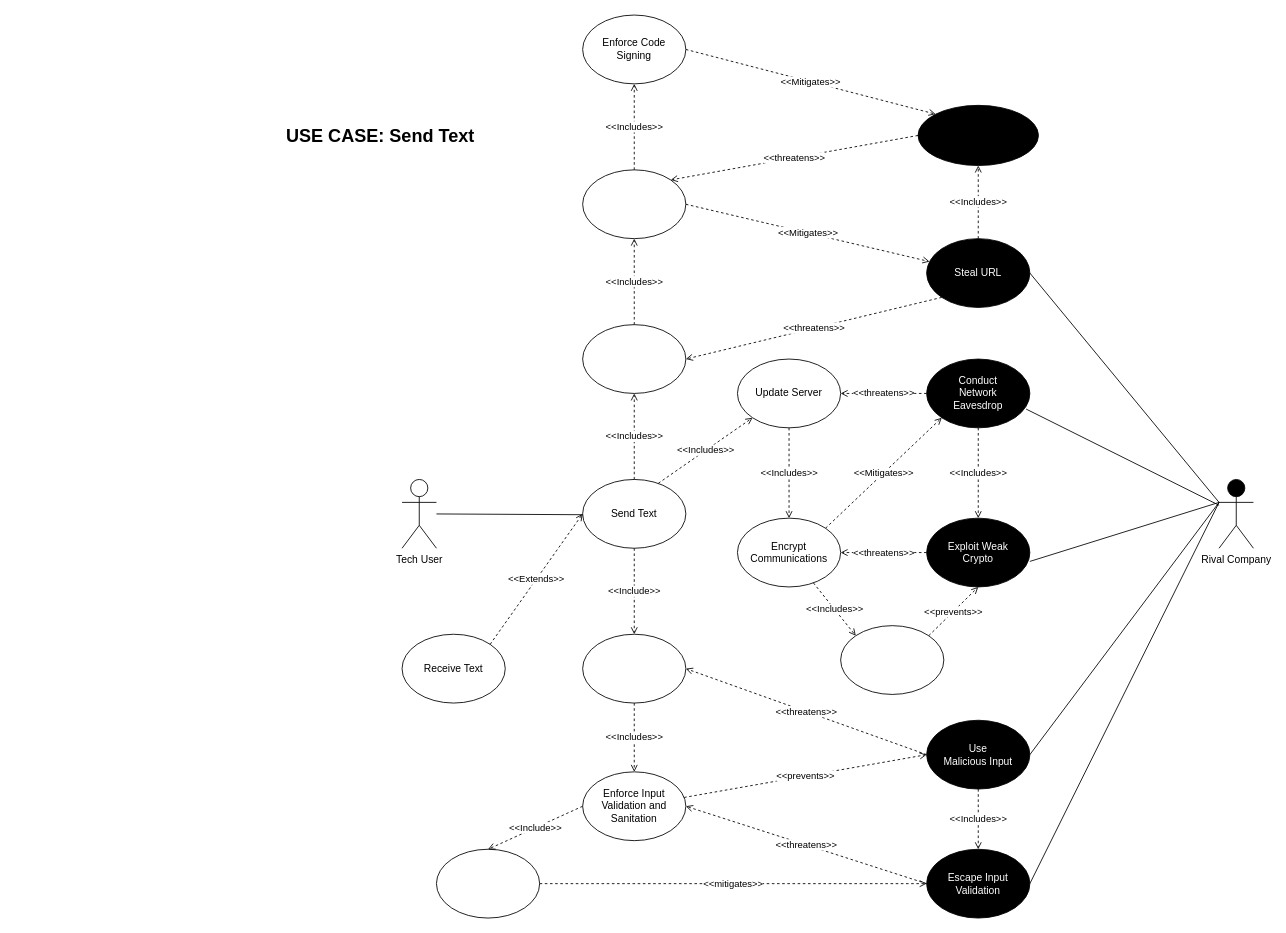
Some shapes in this 1286 by 933 pixel diagram are drawn without their labels. The shapes that lost their labels are listed below. From the top down, each one's box as (x1, y1, x2, y2) in pixels, then its label:
(917, 104, 1038, 166): Disable Security Feature
(582, 169, 686, 239): Set Security Features
(582, 324, 686, 393): Generate URL
(582, 633, 686, 703): Take user input
(840, 625, 944, 694): Use Strong Encryption Algorithm
(436, 848, 540, 918): Enforce Whitelists
